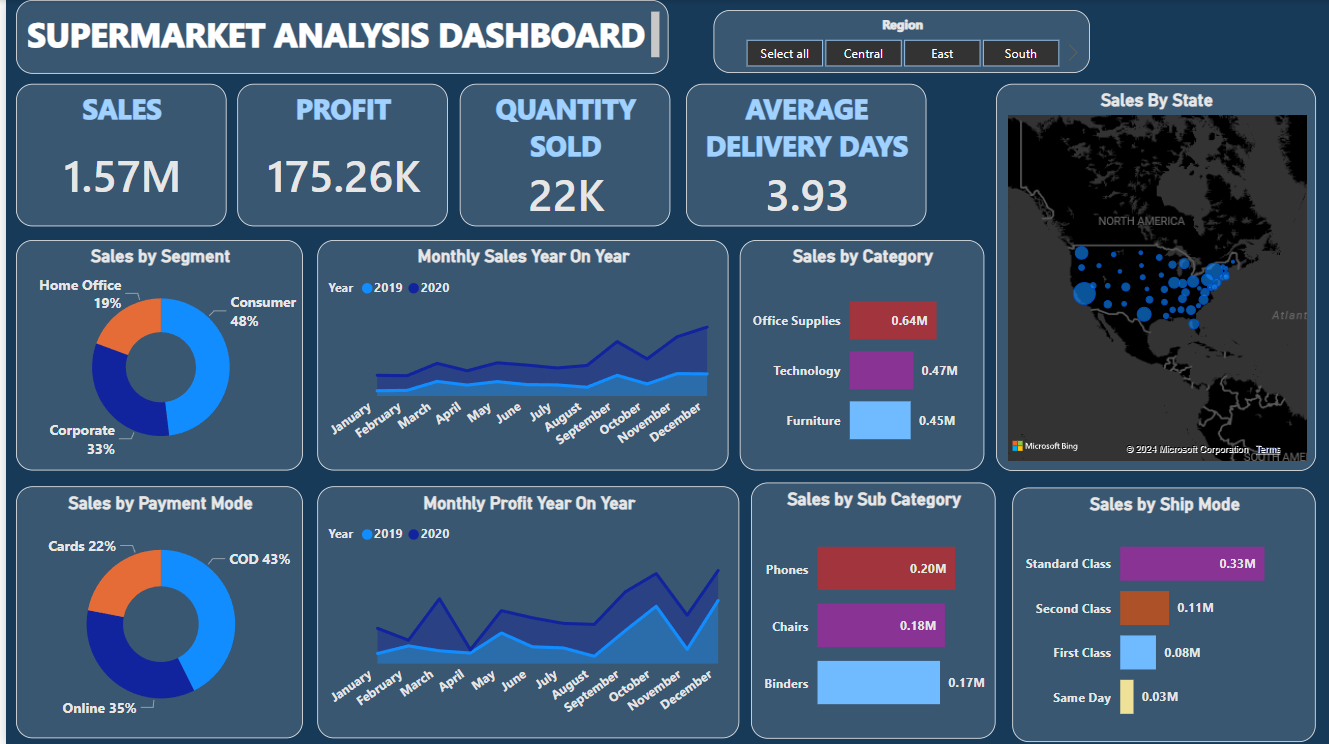

Layout of this report page (visuals, bound fields, positions):
{"tool":"powerbi","page":{"name":"Page 1","canvas":[1280,720],"ordinal":0},"visuals":[{"type":"clusteredBarChart","title":" Sales by Category","fields":{"Category":["SuperStore_Sales_Dataset.Category"],"Y":["Sum(SuperStore_Sales_Dataset.Sales)"]},"box":[708.1,231.9,236,222.3],"z":0},{"type":"clusteredBarChart","title":" Sales by Sub Category","fields":{"Category":["SuperStore_Sales_Dataset.Sub-Category"],"Y":["Sum(SuperStore_Sales_Dataset.Sales)"]},"box":[719,465.2,236,247],"z":1000},{"type":"clusteredBarChart","title":" Sales by Ship Mode","fields":{"Category":["SuperStore_Sales_Dataset.Ship Mode"],"Y":["Sum(SuperStore_Sales_Dataset.Sales)"]},"box":[971.4,470,292.9,245.7],"z":2000},{"type":"stackedAreaChart","title":"Monthly Sales Year On Year","fields":{"Category":["SuperStore_Sales_Dataset.Order Date.Variation.Date Hierarchy.Month"],"Y":["Sum(SuperStore_Sales_Dataset.Sales)"],"Series":["SuperStore_Sales_Dataset.Order Date.Variation.Date Hierarchy.Year"]},"box":[300.5,231.9,396.6,222.3],"z":3000},{"type":"stackedAreaChart","title":"Monthly Profit Year On Year","fields":{"Category":["SuperStore_Sales_Dataset.Order Date.Variation.Date Hierarchy.Month"],"Series":["SuperStore_Sales_Dataset.Order Date.Variation.Date Hierarchy.Year"],"Y":["Sum(SuperStore_Sales_Dataset.Profit)"]},"box":[300.5,469.3,407.5,242.9],"z":4000},{"type":"donutChart","title":" Sales by Segment","fields":{"Category":["SuperStore_Sales_Dataset.Segment"],"Y":["Sum(SuperStore_Sales_Dataset.Sales)"]},"box":[9.6,231.9,277.2,222.3],"z":5000},{"type":"donutChart","title":" Sales by Payment Mode","fields":{"Y":["Sum(SuperStore_Sales_Dataset.Sales)"],"Category":["SuperStore_Sales_Dataset.Payment Mode"]},"box":[9.6,469.3,277.2,242.9],"z":6000},{"type":"textbox","box":[9.6,0,629.8,71.4],"z":7000},{"type":"card","title":"SALES","fields":{"Values":["Sum(SuperStore_Sales_Dataset.Sales)"]},"box":[9.6,81,203.1,137.2],"z":8000},{"type":"card","title":"PROFIT","fields":{"Values":["Sum(SuperStore_Sales_Dataset.Profit)"]},"box":[223.7,81,203.1,137.2],"z":9000},{"type":"card","title":"QUANTITY SOLD","fields":{"Values":["Sum(SuperStore_Sales_Dataset.Quantity)"]},"box":[437.7,81,203.1,137.2],"z":10000},{"type":"card","title":"AVERAGE DELIVERY DAYS","fields":{"Values":["Avg(SuperStore_Sales_Dataset.AVGDELIVERY)"]},"box":[655.9,81,231.9,137.2],"z":11000},{"type":"slicer","title":"Region","fields":{"Values":["SuperStore_Sales_Dataset.Region"]},"box":[682.2,10,363.3,61.1],"z":12000},{"type":"map","title":"Sales By State","fields":{"Category":["SuperStore_Sales_Dataset.State"],"Size":["Sum(SuperStore_Sales_Dataset.Sales)"]},"box":[955.1,81,308.7,373.2],"z":13000}]}

Visuals, with their boxes in screenshot pixels (x1, y1, x2, y2), scaled from the page's 1280x720 canvas onto the 1329x744 screenshot:
" Sales by Category" clusteredBarChart: region(735, 240, 980, 469)
" Sales by Sub Category" clusteredBarChart: region(747, 481, 992, 736)
" Sales by Ship Mode" clusteredBarChart: region(1009, 486, 1313, 740)
"Monthly Sales Year On Year" stackedAreaChart: region(312, 240, 724, 469)
"Monthly Profit Year On Year" stackedAreaChart: region(312, 485, 735, 736)
" Sales by Segment" donutChart: region(10, 240, 298, 469)
" Sales by Payment Mode" donutChart: region(10, 485, 298, 736)
textbox: region(10, 0, 664, 74)
"SALES" card: region(10, 84, 221, 225)
"PROFIT" card: region(232, 84, 443, 225)
"QUANTITY SOLD" card: region(454, 84, 665, 225)
"AVERAGE DELIVERY DAYS" card: region(681, 84, 922, 225)
"Region" slicer: region(708, 10, 1086, 73)
"Sales By State" map: region(992, 84, 1312, 469)
